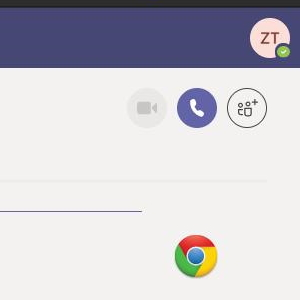chrome: (174, 234, 218, 278)
